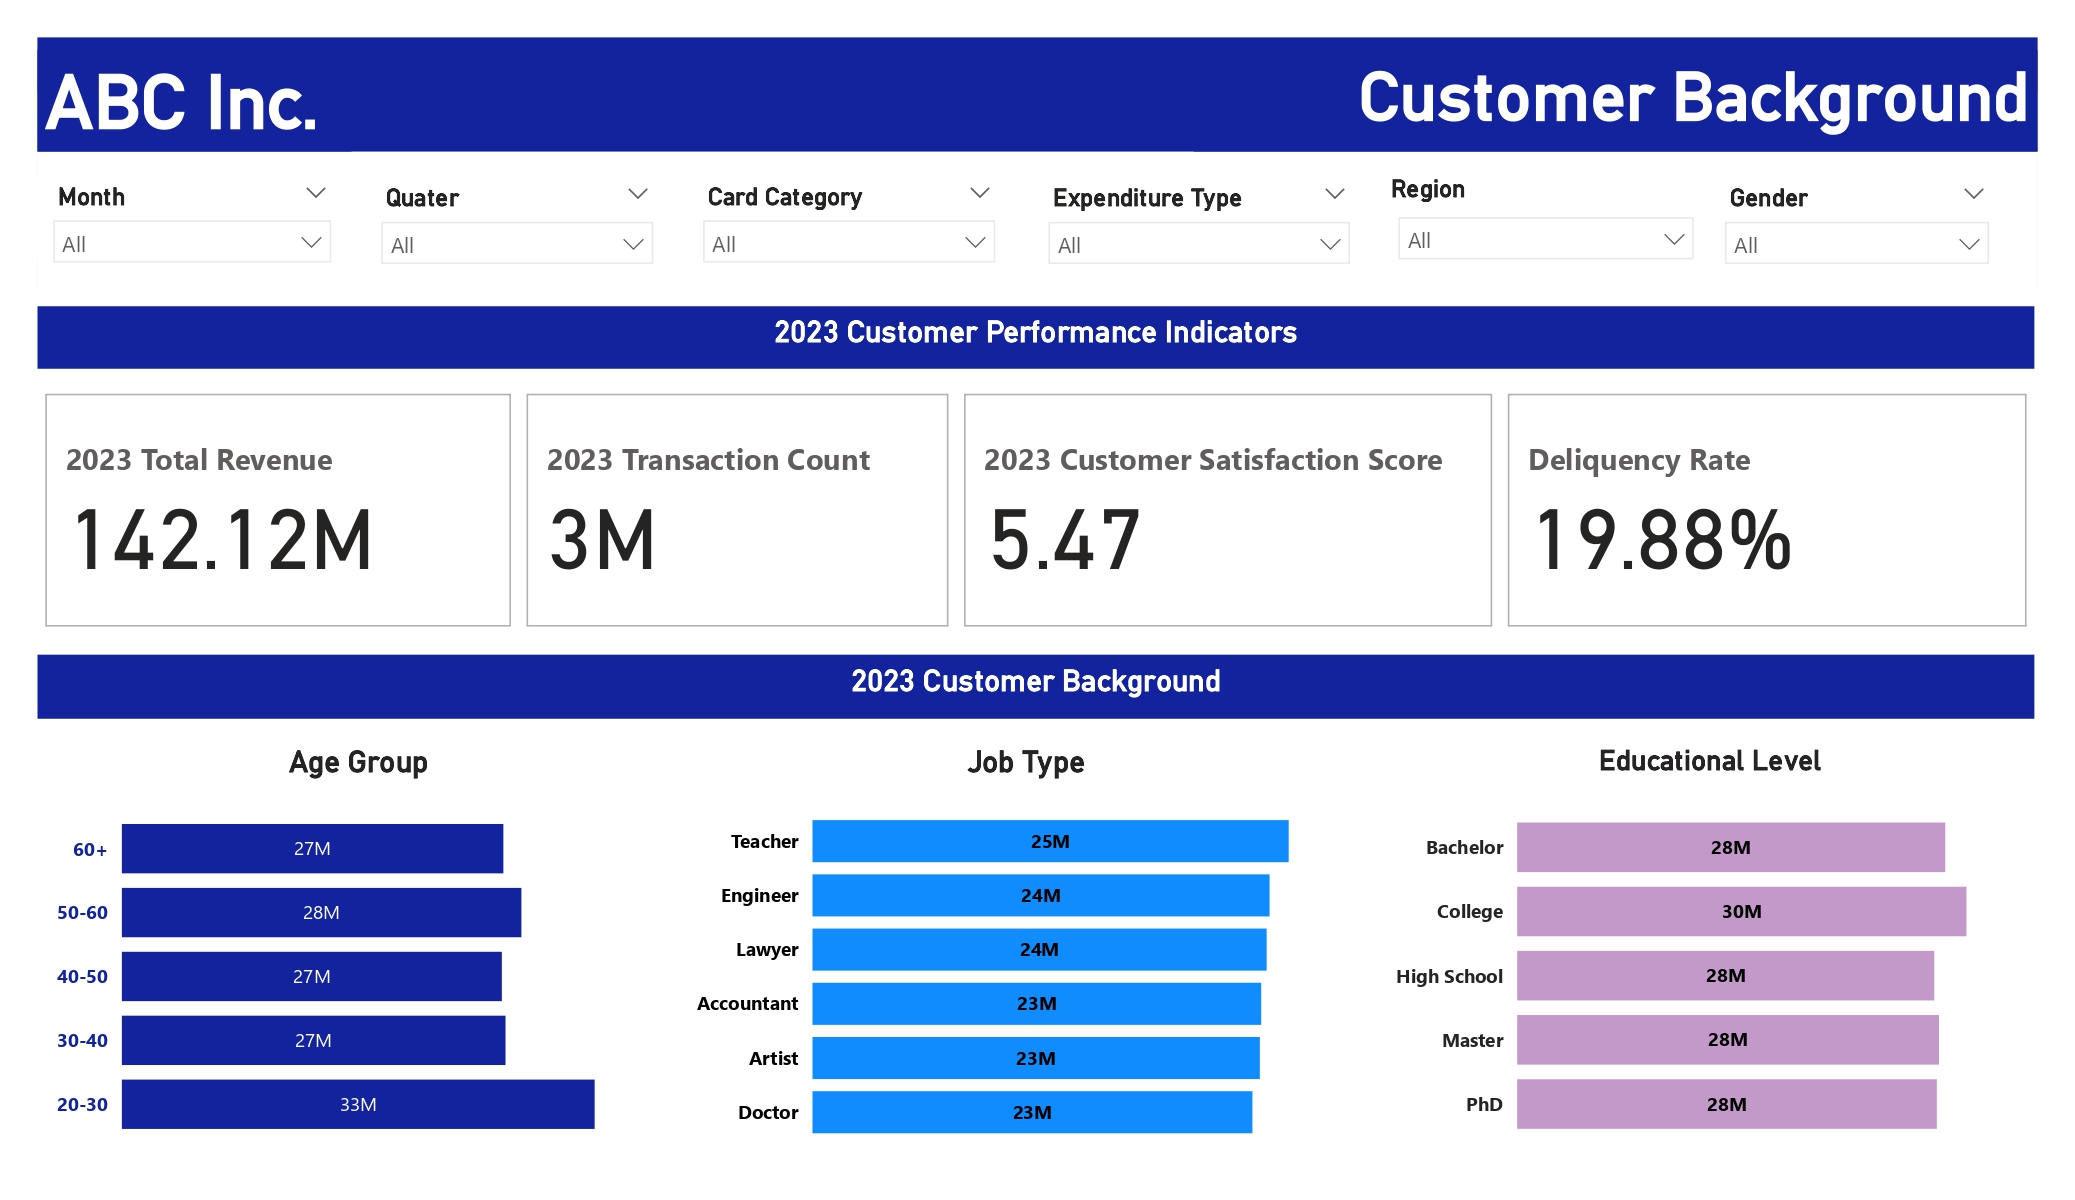

What the dashboard file says about the page in this screenshot:
{"tool":"powerbi","page":{"name":"Customer Background","canvas":[1280,720],"ordinal":2},"visuals":[{"type":"cardVisual","fields":{"Data":["Sum(credit_card_detail_1103.Total_Trans_CT)"]},"box":[307.7,223.5,280.1,158.7],"z":0},{"type":"cardVisual","fields":{"Data":["Avg(customer_detail_1103.Cust_Satisfaction_Score)"]},"box":[587.8,223.5,348.1,158.7],"z":1000},{"type":"barChart","title":"Job Type","fields":{"Category":["customer_detail_1103.Customer_Job"],"Y":["Sum(credit_card_detail_1103.Total_Revenue)"]},"box":[416.1,451.8,434,268.8],"z":2000},{"type":"barChart","title":"Educational Level","fields":{"Category":["customer_detail_1103.Educational_Level"],"Y":["Sum(credit_card_detail_1103.Total_Revenue)"]},"box":[863,451.8,414.5,268.8],"z":3000},{"type":"barChart","title":"Age Group","fields":{"Category":["customer_detail_1103.Age_Group"],"Y":["Sum(credit_card_detail_1103.Total_Revenue)"]},"box":[6.5,451.8,398.3,268.8],"z":4000},{"type":"cardVisual","fields":{"Data":["credit_card_detail_1103.Deliquency Rate"]},"box":[935.9,223.5,341.7,158.7],"z":5000},{"type":"slicer","fields":{"Values":["credit_card_detail_1103.Qtr"]},"box":[210,88,194.3,58.3],"z":6000},{"type":"slicer","fields":{"Values":["credit_card_detail_1103.Card_Category"]},"box":[416.1,87.4,207.3,58.3],"z":7000},{"type":"slicer","fields":{"Values":["customer_detail_1103.Gender"]},"box":[1069.8,88,189.4,56.7],"z":8000},{"type":"slicer","fields":{"Values":["credit_card_detail_1103.Exp_Type"]},"box":[637.4,88,212.1,58.3],"z":9000},{"type":"slicer","title":"Region","fields":{"Values":["customer_detail_1103.State_cd"]},"box":[861.4,87.4,208.9,56.7],"z":10000},{"type":"slicer","fields":{"Values":["credit_card_detail_1103.Month"]},"box":[0,87.4,197.5,56.7],"z":11000},{"type":"cardVisual","fields":{"Data":["Sum(credit_card_detail_1103.Total_Revenue)"]},"box":[0,223.5,307.7,158.7],"z":12000},{"type":"textbox","box":[0,395.1,1277.6,40.5],"z":13000},{"type":"textbox","box":[0,171.6,1277.6,40.5],"z":14000},{"type":"shape","box":[0,0,1279.7,72.5],"z":15000},{"type":"textbox","box":[0,8.1,200.6,64.5],"z":16000},{"type":"textbox","box":[739.7,8.1,540,64.5],"z":17000}]}

Visuals, with their boxes on the page's 1280x720 design canvas (x1, y1, x2, y2). These are canvas units, not pixel positions in the 2075x1200 screenshot, which may show the page scaled, cropped or inside an application window:
cardVisual - Sum(credit_card_detail_1103.Total_Trans_CT): 308,224,588,382
cardVisual - Avg(customer_detail_1103.Cust_Satisfaction_Score): 588,224,936,382
"Job Type" barChart: 416,452,850,721
"Educational Level" barChart: 863,452,1278,721
"Age Group" barChart: 6,452,405,721
cardVisual - credit_card_detail_1103.Deliquency Rate: 936,224,1278,382
slicer - credit_card_detail_1103.Qtr: 210,88,404,146
slicer - credit_card_detail_1103.Card_Category: 416,87,623,146
slicer - customer_detail_1103.Gender: 1070,88,1259,145
slicer - credit_card_detail_1103.Exp_Type: 637,88,850,146
"Region" slicer: 861,87,1070,144
slicer - credit_card_detail_1103.Month: 0,87,198,144
cardVisual - Sum(credit_card_detail_1103.Total_Revenue): 0,224,308,382
textbox: 0,395,1278,436
textbox: 0,172,1278,212
shape: 0,0,1280,72
textbox: 0,8,201,73
textbox: 740,8,1280,73
